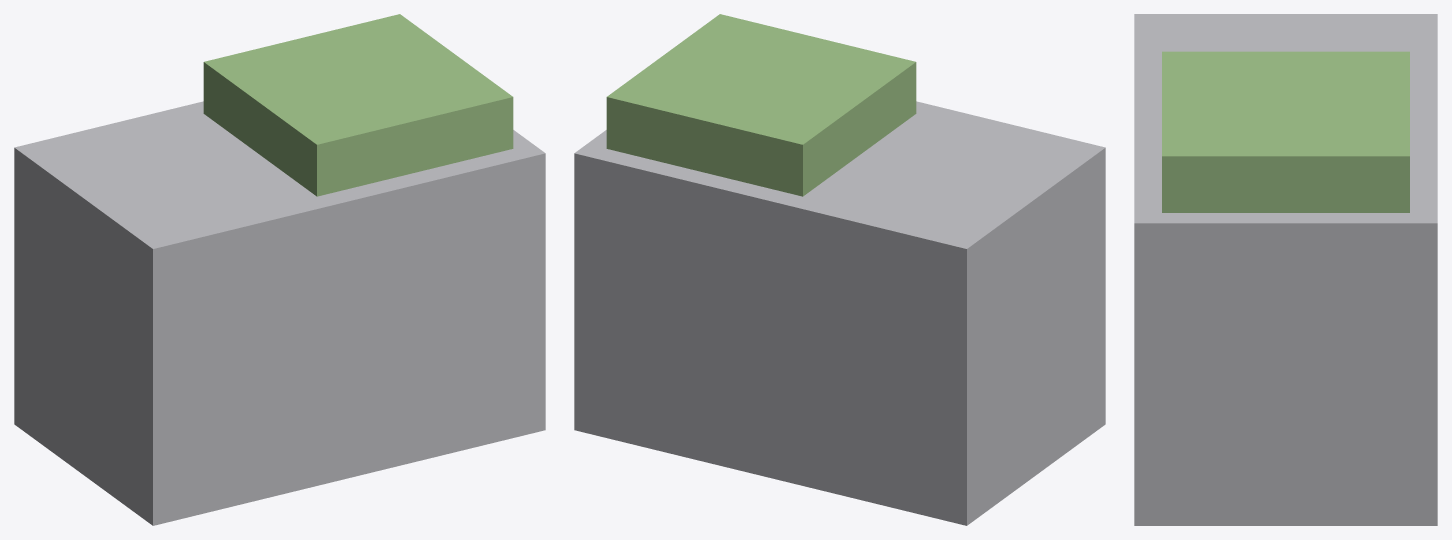
The model's file is Prop_Dress_AMF_Rock_V30.glb.
3 views of the same model, side by side, from view 1: azimuth 30°, elevation 25°; view 2: azimuth 150°, elevation 25°; view 3: azimuth 270°, elevation 25° (orthographic). The views are drawn at different scales.
Parts seen in each view (by area): view 1: Prop_Dress_AMF_Rock_V30; view 2: Prop_Dress_AMF_Rock_V30; view 3: Prop_Dress_AMF_Rock_V30.
Boxes of the visible parts, bbox=[...] form: Prop_Dress_AMF_Rock_V30: bbox=[14, 14, 545, 525]; Prop_Dress_AMF_Rock_V30: bbox=[574, 14, 1105, 525]; Prop_Dress_AMF_Rock_V30: bbox=[1134, 14, 1437, 525].
Bounding box in the file's own units: 1.09 × 0.8722 × 0.6676.
